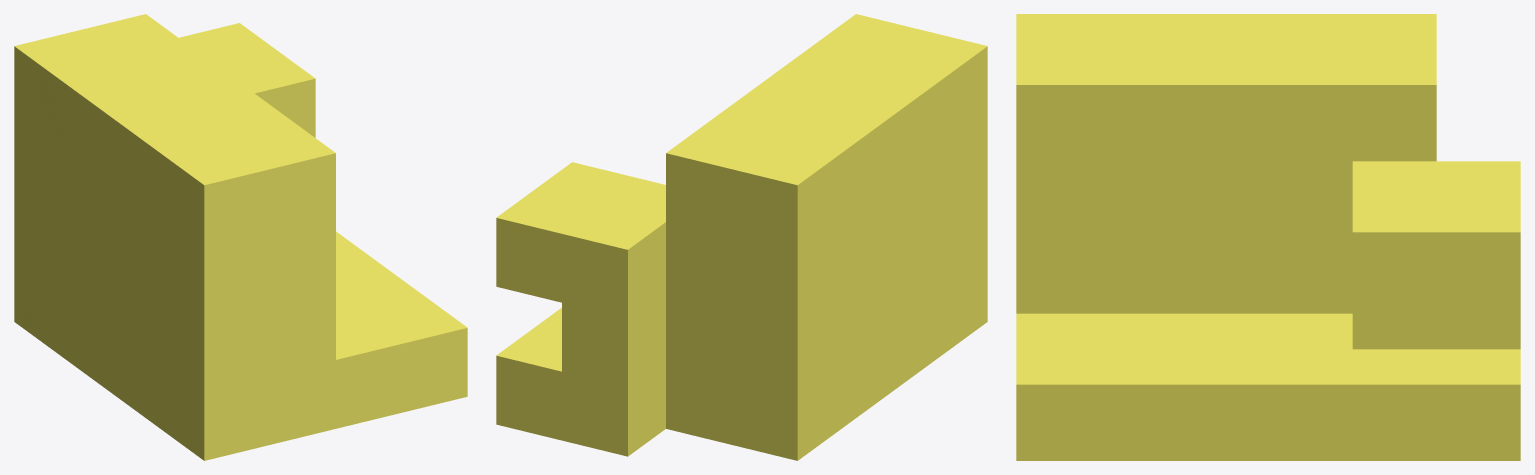
3 views of the same model, side by side, from view 1: azimuth 30°, elevation 25°; view 2: azimuth 150°, elevation 25°; view 3: azimuth 270°, elevation 25° (orthographic). The views are drawn at different scales.
Parts seen in each view (by area): view 1: 905; view 2: 905; view 3: 905.
Boxes of the visible parts, x1,y1,x2,y2 form: 905: (14, 14, 467, 460); 905: (496, 14, 987, 460); 905: (1016, 14, 1520, 460).
Bounding box in the file's own units: 0.04 × 0.04 × 0.06.
